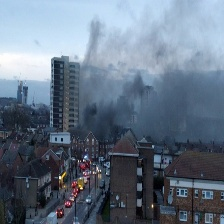smoke: (80, 7, 223, 142)
